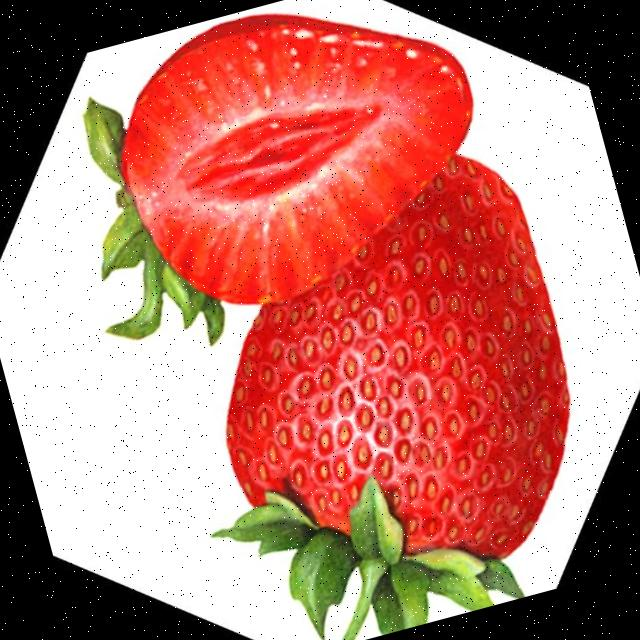strawberry: (214, 157, 568, 640), (82, 14, 471, 341)
